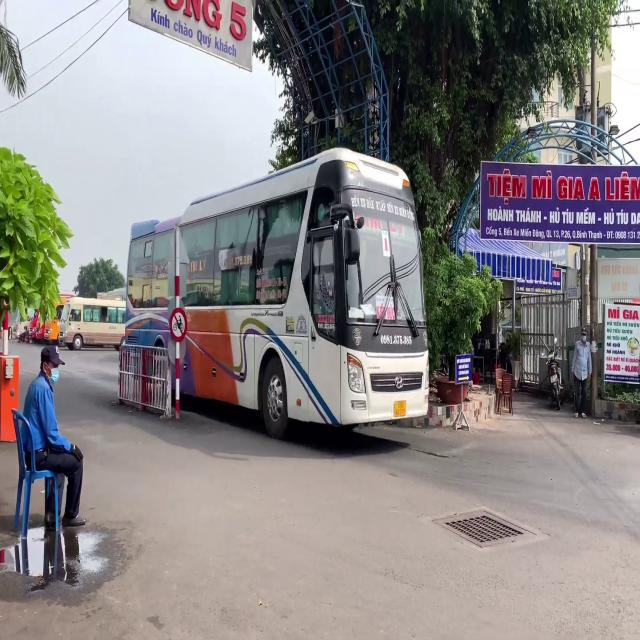bien_vang: (394, 400, 406, 417)
